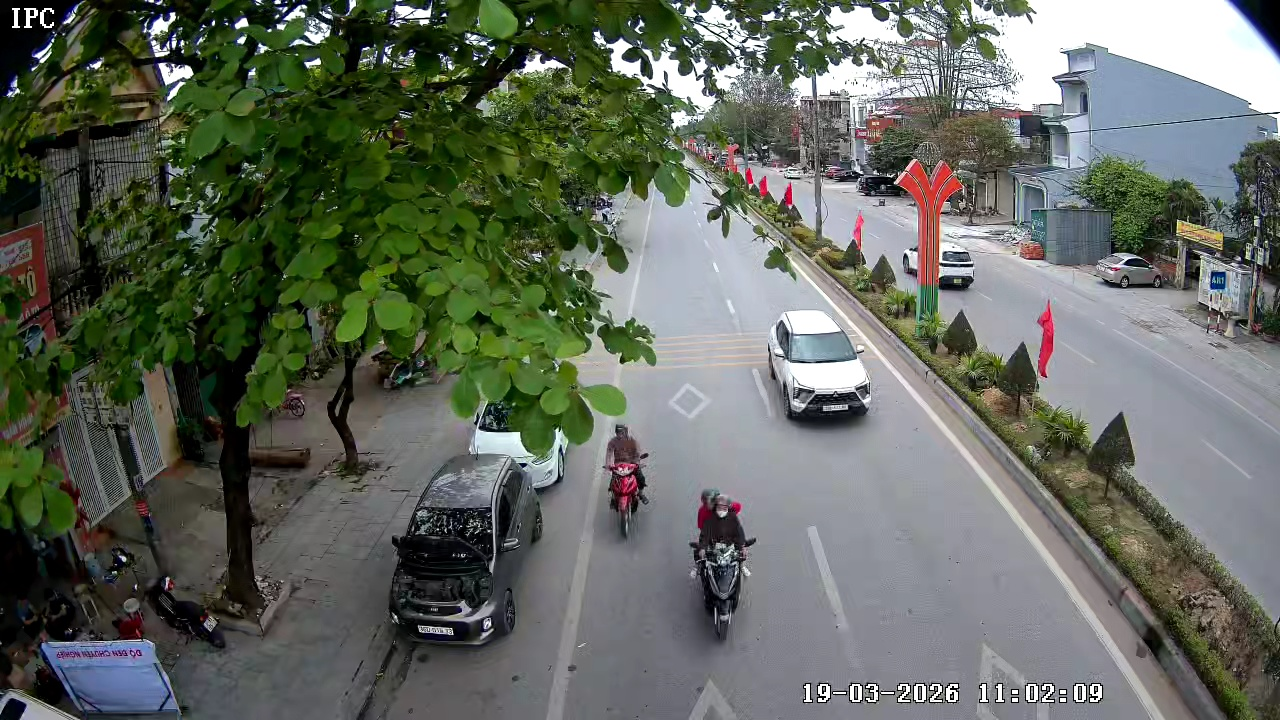car: (388, 453, 544, 646), (766, 308, 871, 421), (469, 397, 571, 493), (1093, 250, 1164, 289), (938, 241, 976, 290)
motorbike: (685, 488, 759, 642), (601, 421, 652, 536)
